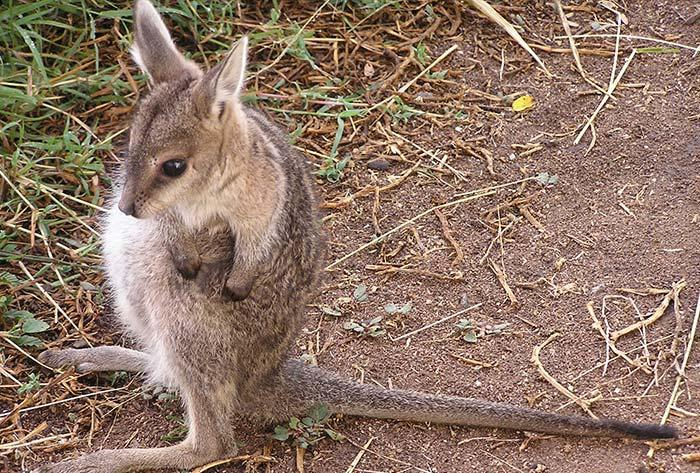Bridled-nail-tail wallaby: (33, 0, 680, 472)
